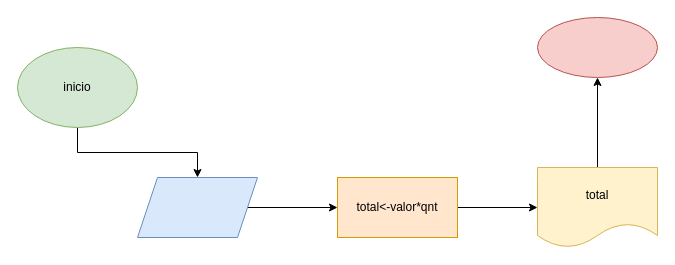
The diagram is 675 pixels wide and 265 high, and some of its shapes have lost their labels. Here are the shapes that lost their labels. From the top down, the centre of each, then its label:
At [597,47]: "fim".
At [197,207]: "valor,qnt".
